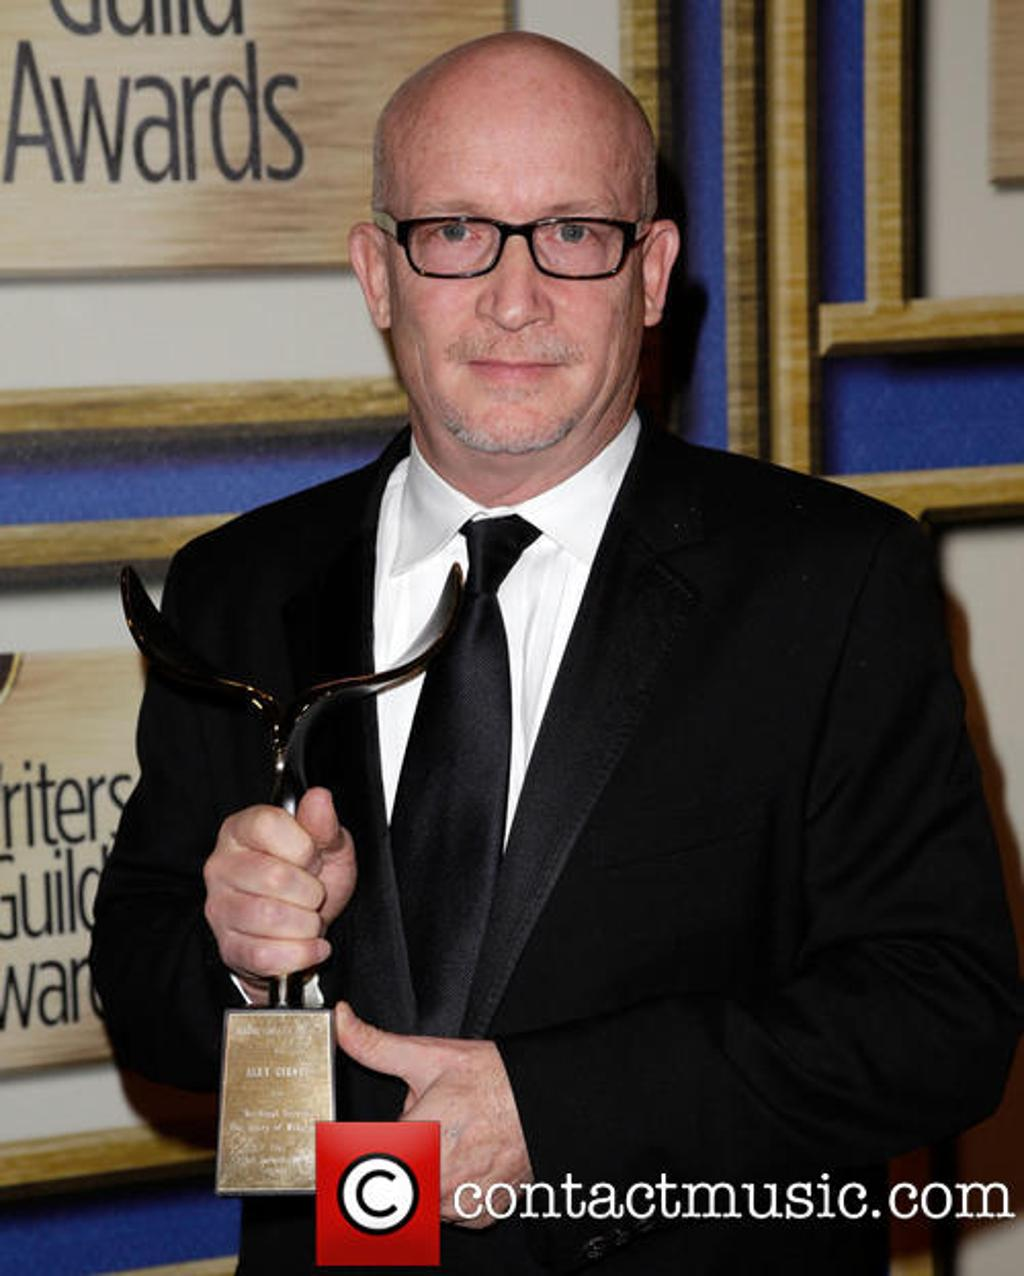face: (396, 65, 640, 459)
